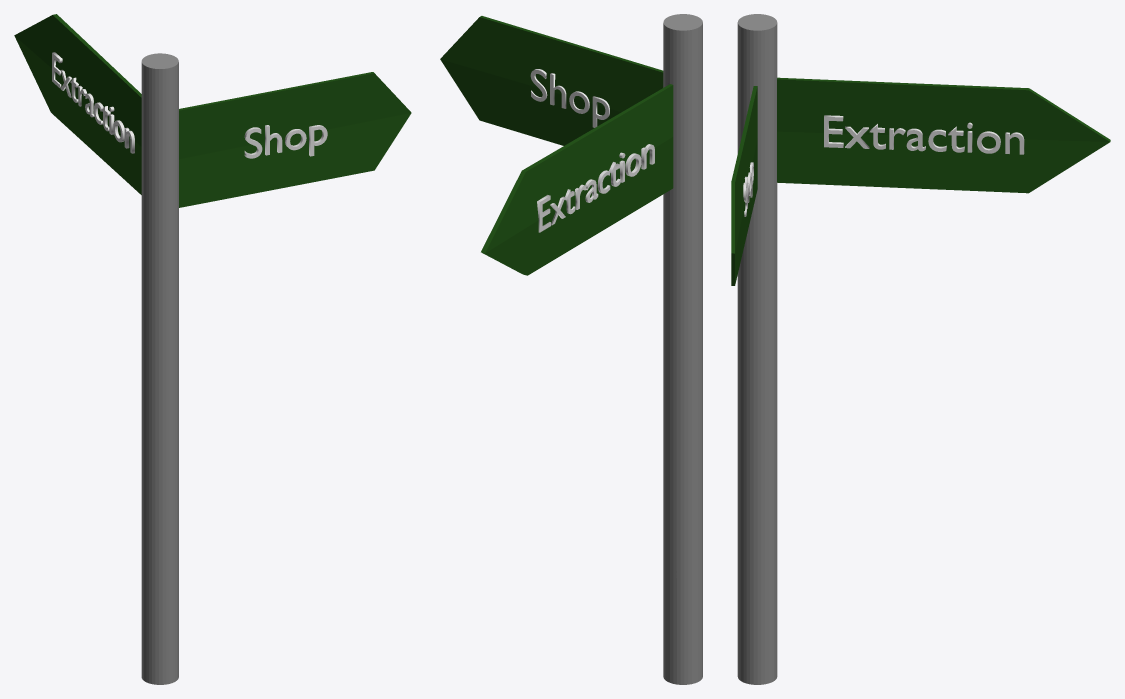
The model's file is Sign2.fbx.
3 views of the same model, side by side, from view 1: azimuth 30°, elevation 25°; view 2: azimuth 150°, elevation 25°; view 3: azimuth 270°, elevation 25° (orthographic). The views are drawn at different scales.
Visible parts, largest first — view 1: Cylinder, Cylinder.001, Text.001, Text.003; view 2: Cylinder, Cylinder.001, Text.001, Text.002; view 3: Cylinder.001, Cylinder, Text.
Boxes of the visible parts, <box> form: Cylinder: <box>141,53,411,684</box>; Cylinder.001: <box>14,14,141,194</box>; Text.001: <box>52,52,134,153</box>; Text.003: <box>244,125,327,158</box>; Cylinder: <box>440,14,702,684</box>; Cylinder.001: <box>481,84,673,275</box>; Text.001: <box>537,144,654,232</box>; Text.002: <box>530,69,609,127</box>; Cylinder.001: <box>777,77,1110,193</box>; Cylinder: <box>731,14,777,684</box>; Text: <box>824,115,1024,154</box>.
Size of the model in its own units: 1585 by 3650 by 1919.
